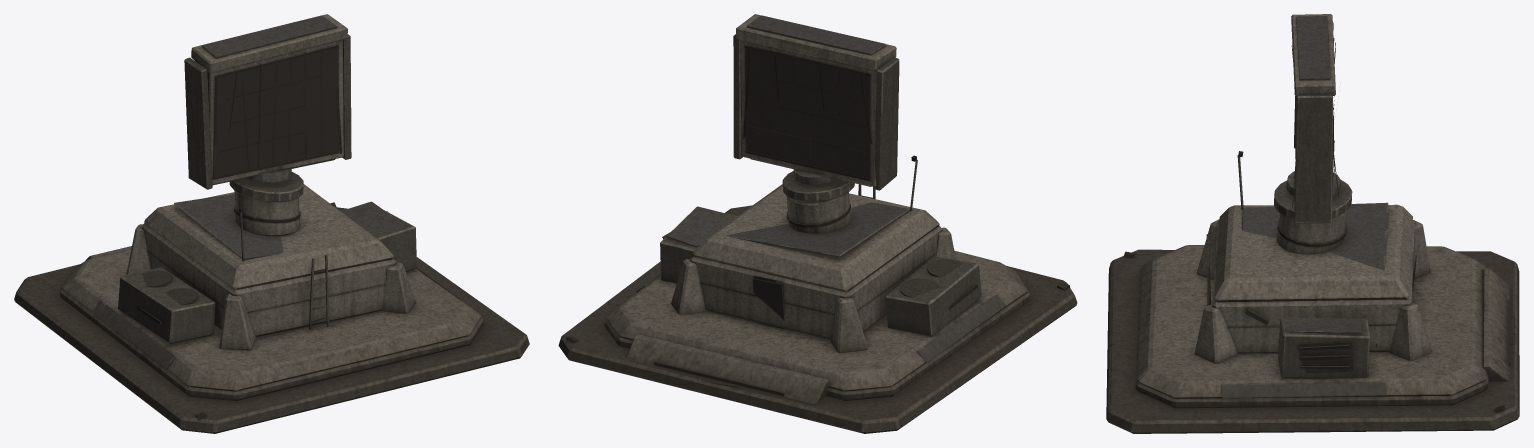
File: ord_tribunal_wreck.fbx
The picture shows the model from 3 angles, left to right: view 1: azimuth 30°, elevation 25°; view 2: azimuth 150°, elevation 25°; view 3: azimuth 270°, elevation 25°; orthographic projection. The views are drawn at different scales.
Visible parts, largest first — view 1: base_bar, radar_bar; view 2: base_bar, radar_bar; view 3: base_bar, radar_bar.
Part boxes in pixels (box(x1,y1,x2,y2)): base_bar: box(14, 172, 529, 433); radar_bar: box(184, 14, 351, 189); base_bar: box(558, 155, 1077, 433); radar_bar: box(733, 14, 899, 190); base_bar: box(1106, 151, 1519, 433); radar_bar: box(1286, 14, 1340, 223).
Bounding box in the file's own units: 1583 × 1454 × 1566.
2 materials, 2 textured.
